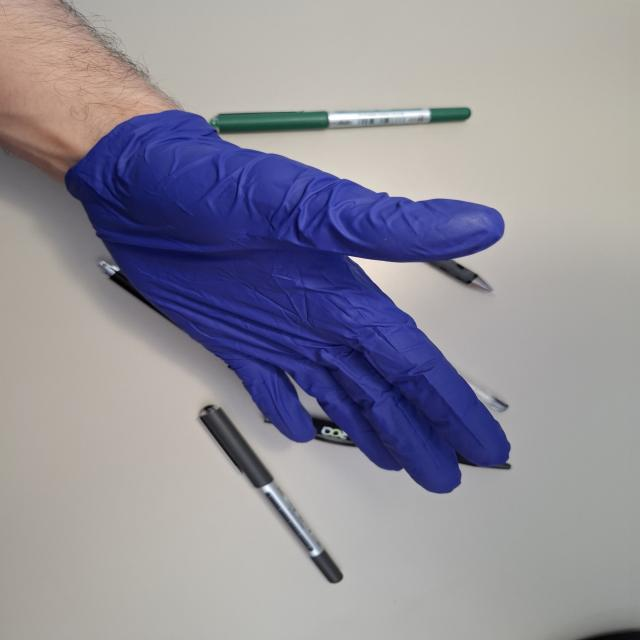glove_on: (67, 110, 513, 498)
